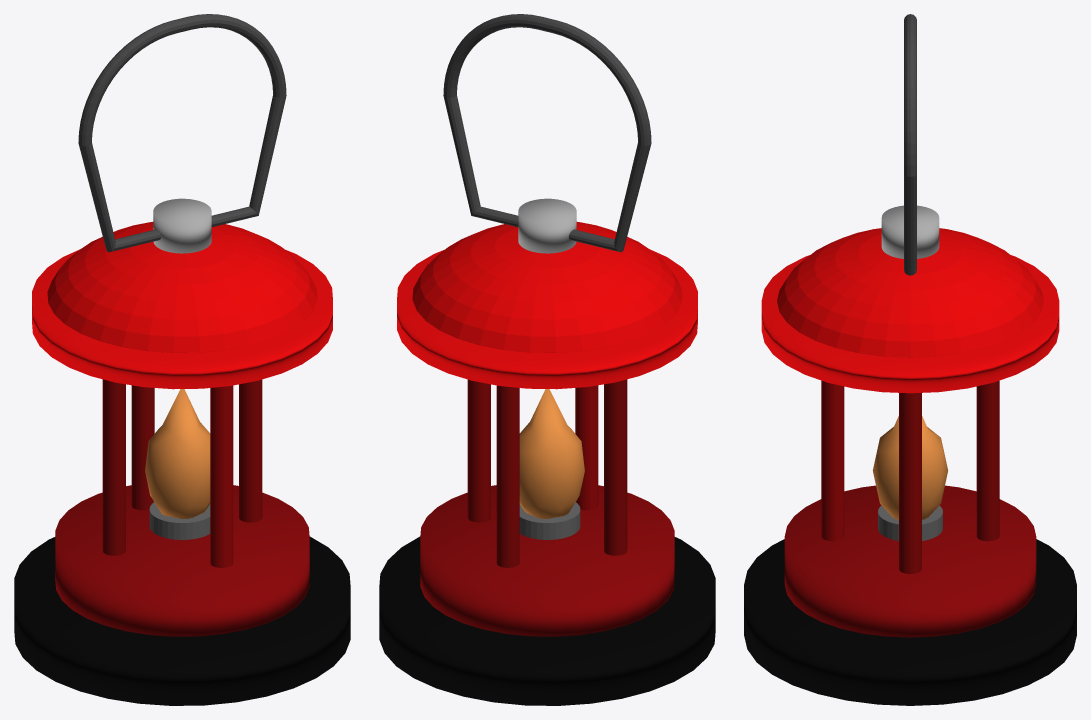
Rendered from Lamp.fbx.
3 renders of one model, left to right at view 1: azimuth 30°, elevation 25°; view 2: azimuth 150°, elevation 25°; view 3: azimuth 270°, elevation 25°, orthographic.
Parts seen in each view (by area): view 1: 円柱.008, 円柱, 球, 円柱.005, 平面, ICO球, 円柱.003, 円柱.004, 円柱.002, 円柱.007, 円柱.001, 円柱.006; view 2: 円柱.008, 円柱, 球, 円柱.005, 平面, ICO球, 円柱.001, 円柱.004, 円柱.002, 円柱.007, 円柱.003, 円柱.006; view 3: 円柱.008, 円柱, 球, 円柱.005, 円柱.002, 円柱.001, 円柱.003, ICO球, 平面, 円柱.007, 円柱.006.
Part boxes in pixels (x1=…): 円柱.008: x1=14, y1=536, x2=350, y2=705; 円柱: x1=55, y1=485, x2=309, y2=636; 球: x1=47, y1=222, x2=317, y2=352; 円柱.005: x1=32, y1=249, x2=332, y2=389; 平面: x1=78, y1=14, x2=286, y2=252; ICO球: x1=145, y1=389, x2=210, y2=518; 円柱.003: x1=210, y1=385, x2=233, y2=567; 円柱.004: x1=102, y1=379, x2=125, y2=555; 円柱.002: x1=239, y1=379, x2=262, y2=522; 円柱.007: x1=153, y1=198, x2=211, y2=253; 円柱.001: x1=131, y1=385, x2=154, y2=510; 円柱.006: x1=149, y1=502, x2=210, y2=539; 円柱.008: x1=379, y1=536, x2=715, y2=705; 円柱: x1=420, y1=485, x2=674, y2=636; 球: x1=412, y1=222, x2=682, y2=352; 円柱.005: x1=397, y1=249, x2=697, y2=389; 平面: x1=443, y1=14, x2=651, y2=252; ICO球: x1=519, y1=389, x2=584, y2=518; 円柱.001: x1=496, y1=385, x2=519, y2=567; 円柱.004: x1=604, y1=379, x2=627, y2=555; 円柱.002: x1=467, y1=379, x2=490, y2=522; 円柱.007: x1=518, y1=198, x2=576, y2=253; 円柱.003: x1=575, y1=385, x2=598, y2=510; 円柱.006: x1=519, y1=502, x2=580, y2=539; 円柱.008: x1=744, y1=539, x2=1076, y2=705; 円柱: x1=784, y1=485, x2=1036, y2=637; 球: x1=777, y1=228, x2=1043, y2=357; 円柱.005: x1=761, y1=255, x2=1059, y2=393; 円柱.002: x1=899, y1=393, x2=921, y2=573; 円柱.001: x1=976, y1=380, x2=999, y2=541; 円柱.003: x1=821, y1=380, x2=844, y2=541; ICO球: x1=872, y1=416, x2=948, y2=519; 平面: x1=904, y1=14, x2=916, y2=275; 円柱.007: x1=881, y1=205, x2=939, y2=258; 円柱.006: x1=878, y1=505, x2=942, y2=540.
Bounding box in the file's own units: 300 × 605 × 300.
